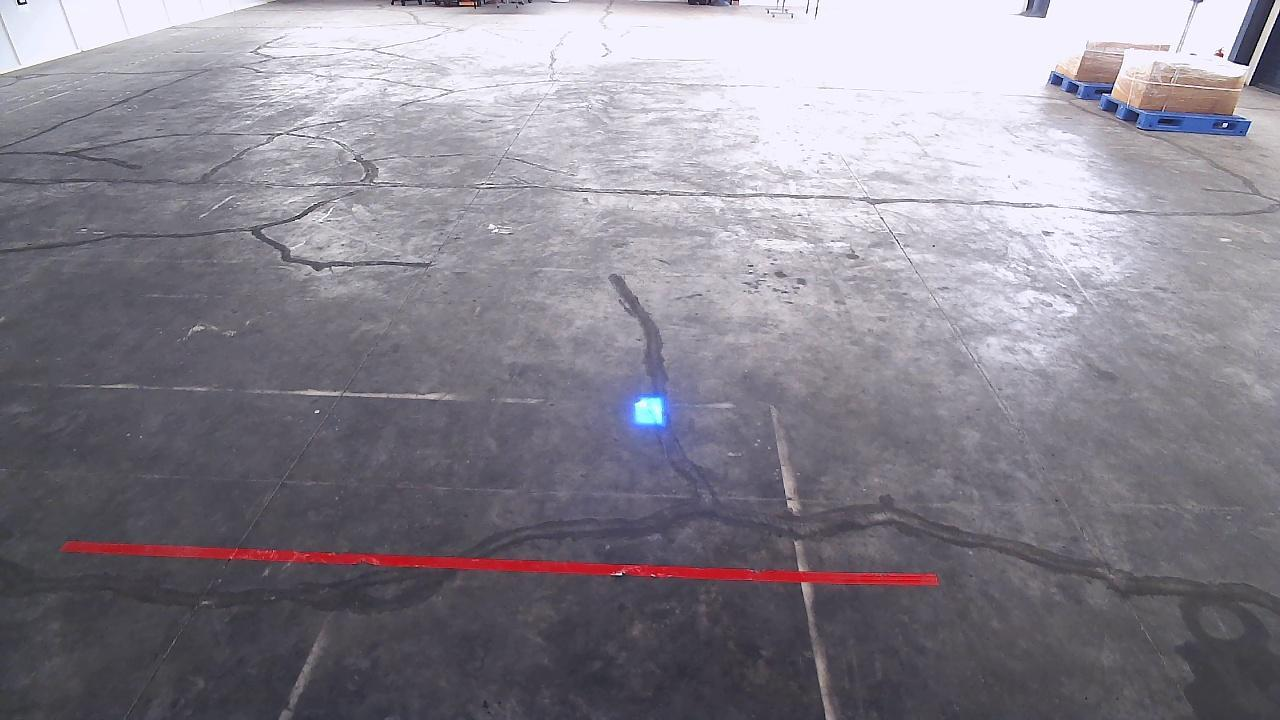red_line: (59, 541, 942, 583)
